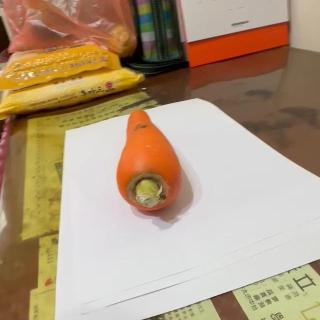carrot: (111, 108, 183, 215)
